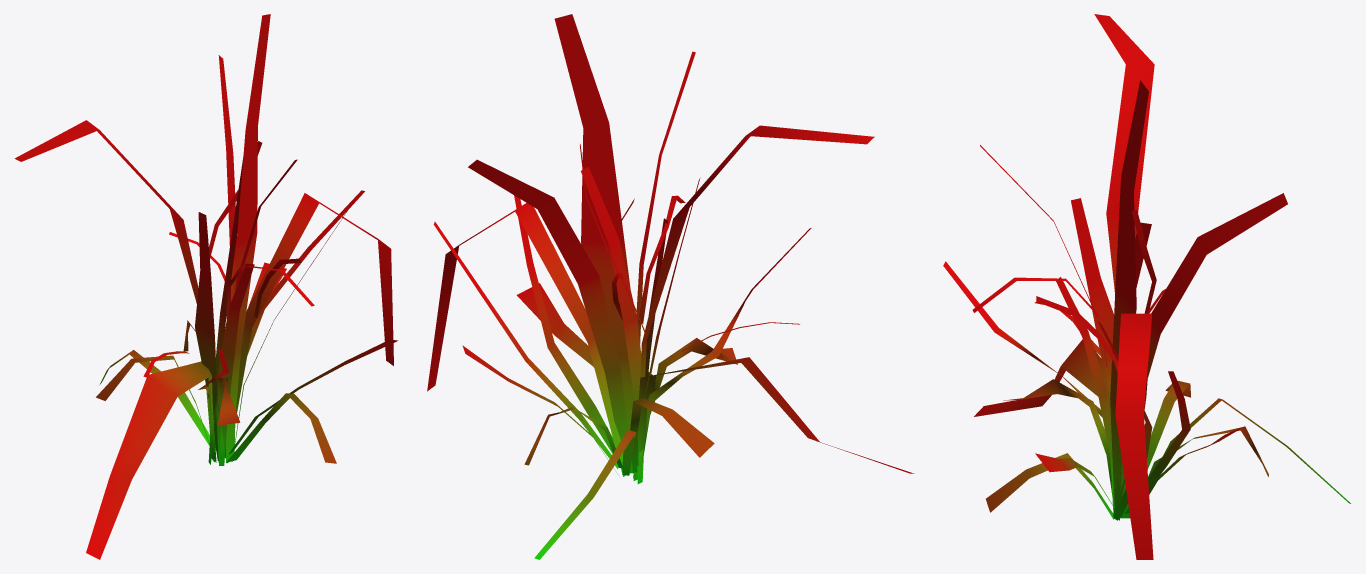
Rendered from Var2_LOD2.fbx.
The picture shows the model from 3 angles, left to right: view 1: azimuth 30°, elevation 25°; view 2: azimuth 150°, elevation 25°; view 3: azimuth 270°, elevation 25°; orthographic projection. The views are drawn at different scales.
Parts seen in each view (by area): view 1: _d2a0_Var2_LOD2; view 2: _d2a0_Var2_LOD2; view 3: _d2a0_Var2_LOD2.
Part boxes in pixels (bbox=[...]): _d2a0_Var2_LOD2: bbox=[14, 14, 398, 559]; _d2a0_Var2_LOD2: bbox=[427, 14, 914, 559]; _d2a0_Var2_LOD2: bbox=[943, 14, 1350, 559].
Size of the model in its own units: 54.92 by 57.5 by 45.91.
